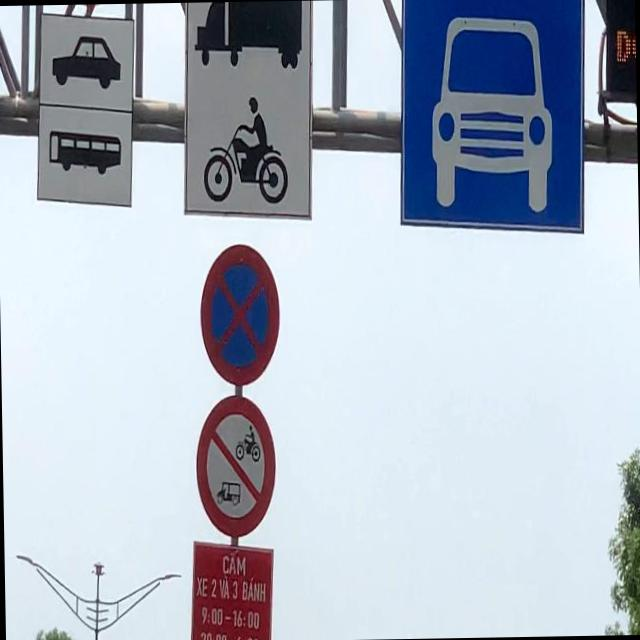P-130: (198, 244, 280, 383)
